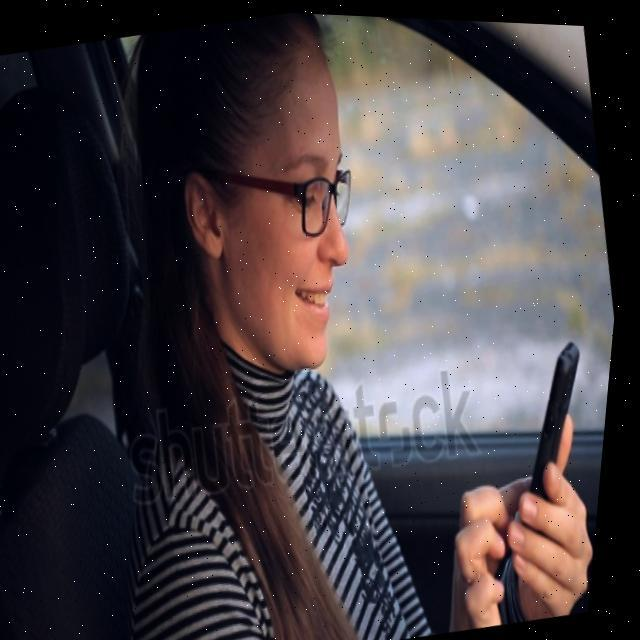PhoneCall: (499, 328, 618, 536)
